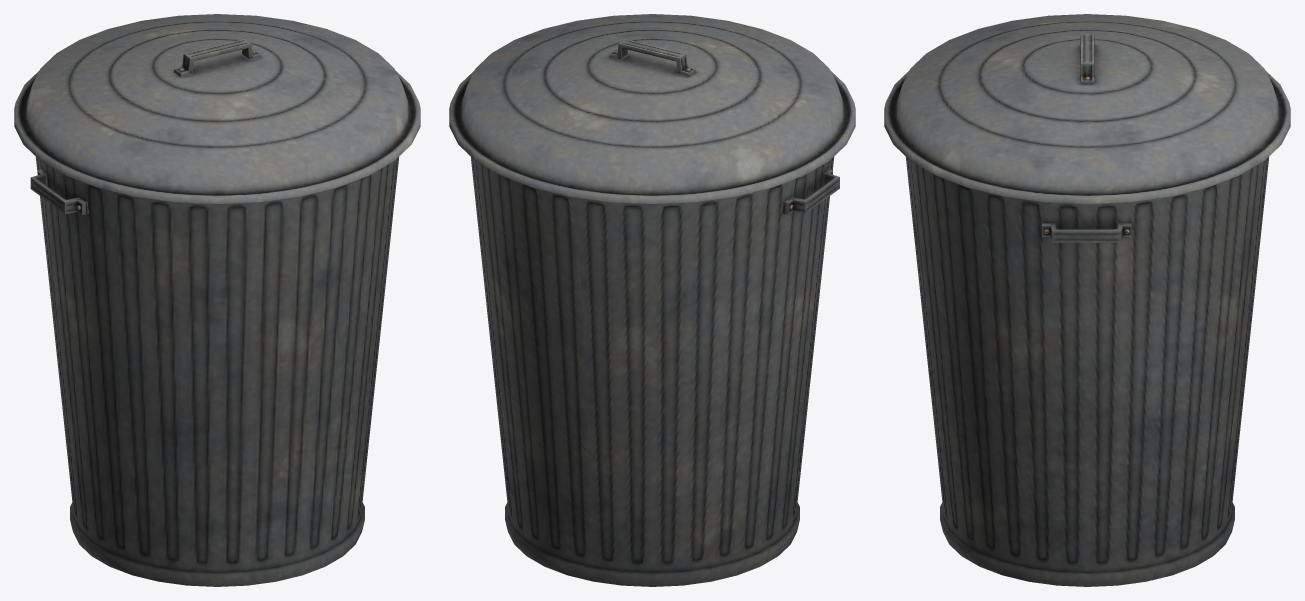
File: Garbage_Can.fbx
The picture shows the model from 3 angles, left to right: view 1: azimuth 30°, elevation 25°; view 2: azimuth 150°, elevation 25°; view 3: azimuth 270°, elevation 25°; orthographic projection.
Parts seen in each view (by area): view 1: Garbage_Can_LOD0; view 2: Garbage_Can_LOD0; view 3: Garbage_Can_LOD0.
Boxes of the visible parts, x1=… form: Garbage_Can_LOD0: x1=14, y1=14, x2=420, y2=586; Garbage_Can_LOD0: x1=449, y1=14, x2=855, y2=586; Garbage_Can_LOD0: x1=884, y1=14, x2=1290, y2=586.
Size of what is drawn, in the model's own units: 74.78 by 96.3 by 74.37.
